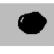correct: (17, 11, 48, 35)
